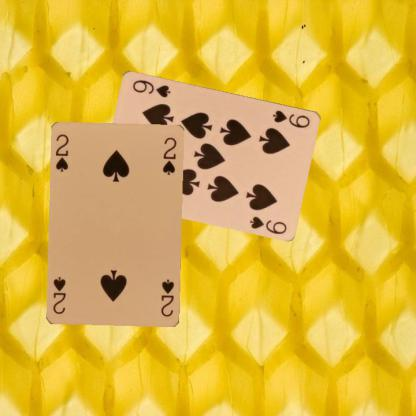2s: (158, 278, 176, 318), (53, 132, 70, 173)
9s: (270, 107, 311, 129)
